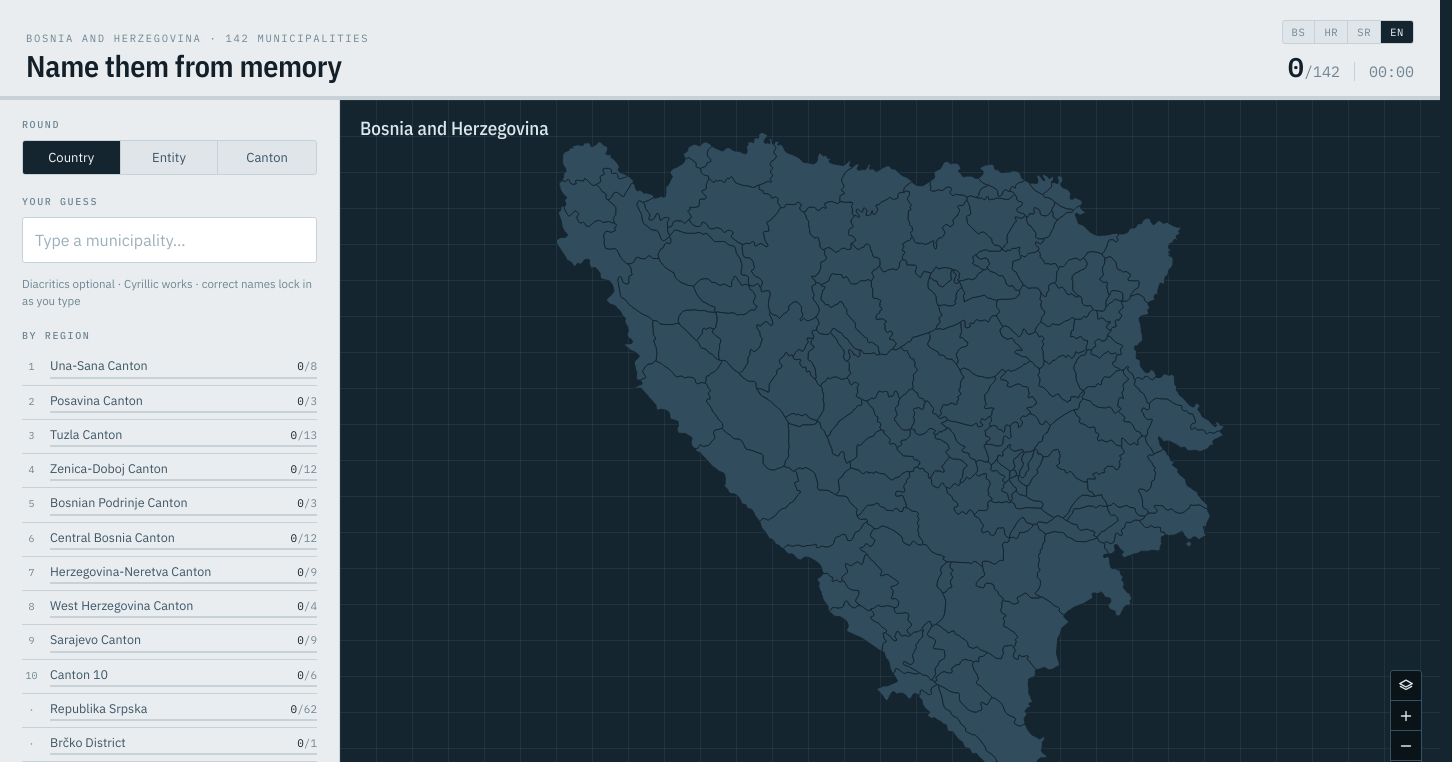
Scenario: switching language in the app › retranslates the interface
Expected: the heading "Name them from memory" is shown, [26, 51, 369, 81]
Click the button with aria-label "Bosanski".
click(1299, 32)  # box [1282, 21, 1315, 43]
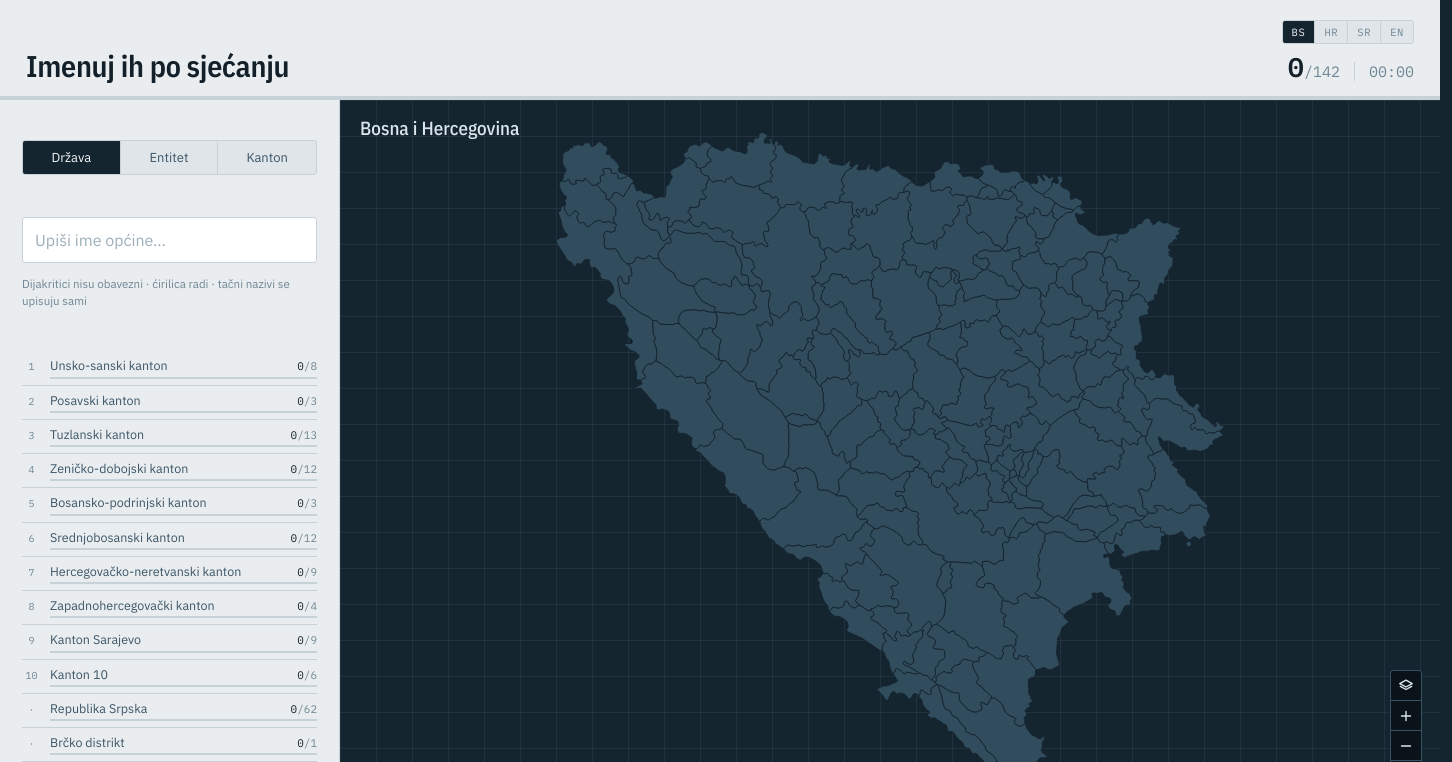
Result: the heading "Imenuj ih po sjećanju" is shown at [26, 51, 289, 81]
Click the button with aria-label "Српски".
click(1365, 32)  # box [1348, 21, 1381, 43]
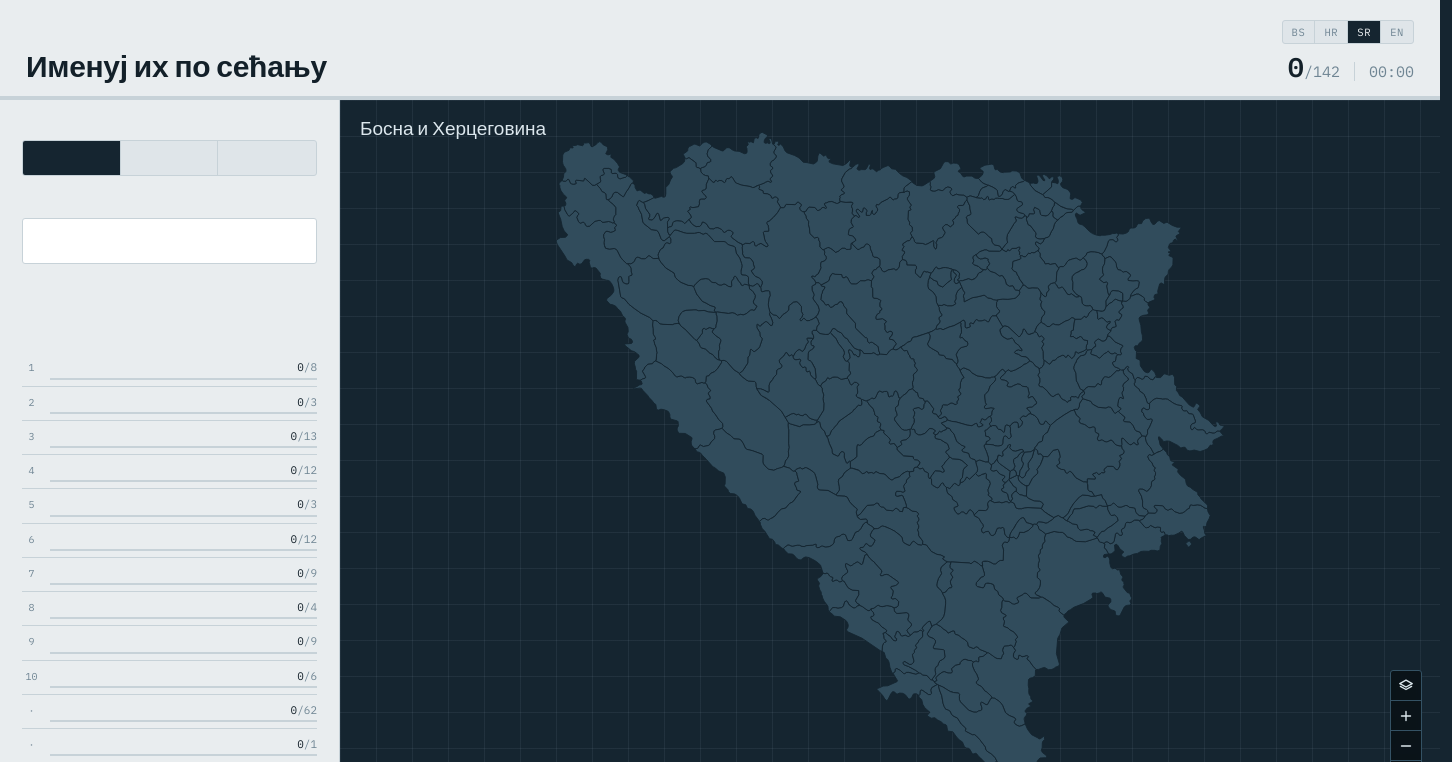
Result: the heading "Именуј их по сећању" is shown at [26, 51, 327, 81]
